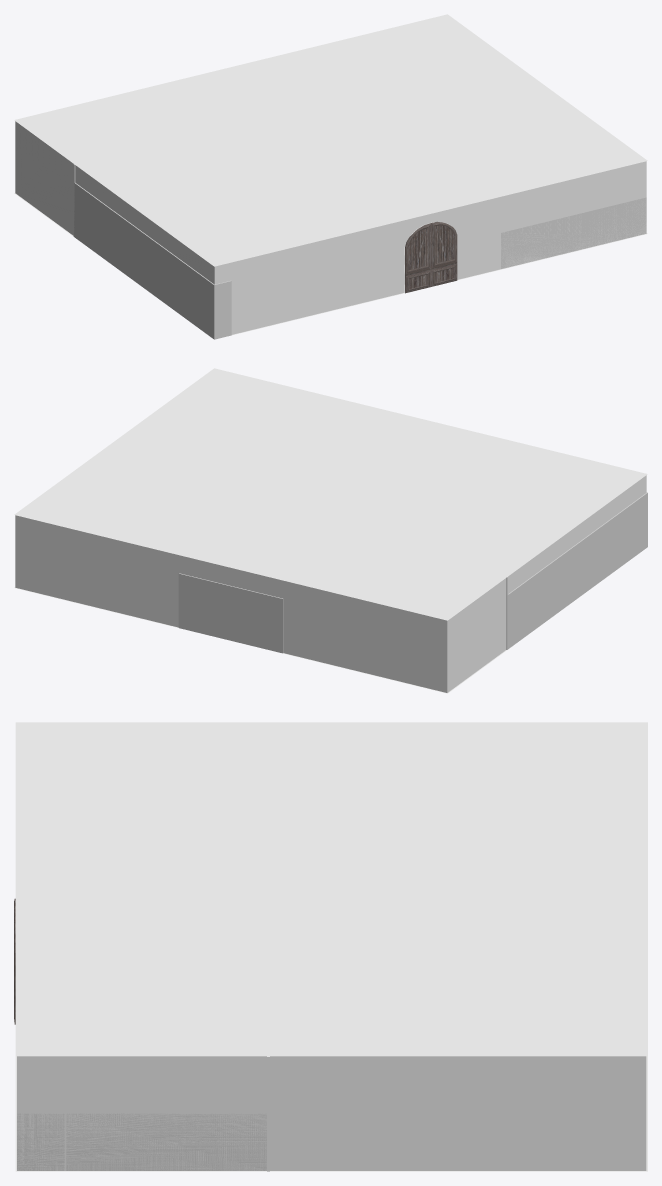
The model's file is Level1_nav.glb.
The picture shows the model from 3 angles, top to bottom: view 1: azimuth 30°, elevation 25°; view 2: azimuth 150°, elevation 25°; view 3: azimuth 270°, elevation 25°; orthographic projection. The views are drawn at different scales.
Visible parts, largest first — view 1: Plane, FirstFloorInnerWalls, Cube.007, Cube.006, FrontDoor, Plane.001; view 2: Plane, FirstFloorInnerWalls, Cube.007, Cube.003, Plane.001; view 3: Plane, FirstFloorInnerWalls, Cube.005, Cube.006, Plane.001.
Part boxes in pixels (<box>): Plane: <box>14,14,647,266</box>; FirstFloorInnerWalls: <box>15,121,646,334</box>; Cube.007: <box>74,183,231,339</box>; Cube.006: <box>501,197,646,268</box>; FrontDoor: <box>405,222,457,293</box>; Plane.001: <box>14,193,647,335</box>; Plane: <box>14,368,647,620</box>; FirstFloorInnerWalls: <box>15,475,646,692</box>; Cube.007: <box>507,492,647,649</box>; Cube.003: <box>178,573,283,653</box>; Plane.001: <box>14,587,506,693</box>; Plane: <box>15,722,647,1056</box>; FirstFloorInnerWalls: <box>17,1056,646,1170</box>; Cube.005: <box>66,1113,266,1170</box>; Cube.006: <box>17,1113,64,1170</box>; Plane.001: <box>15,1056,647,1171</box>.
Size of what is drawn, in the model's own units: 25 by 4.11 by 20.05.
5 materials, 1 textured.
